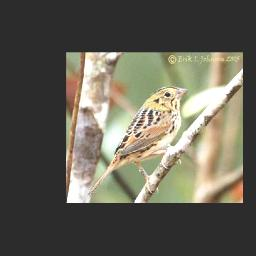Sparrow: (81, 84, 189, 198)
